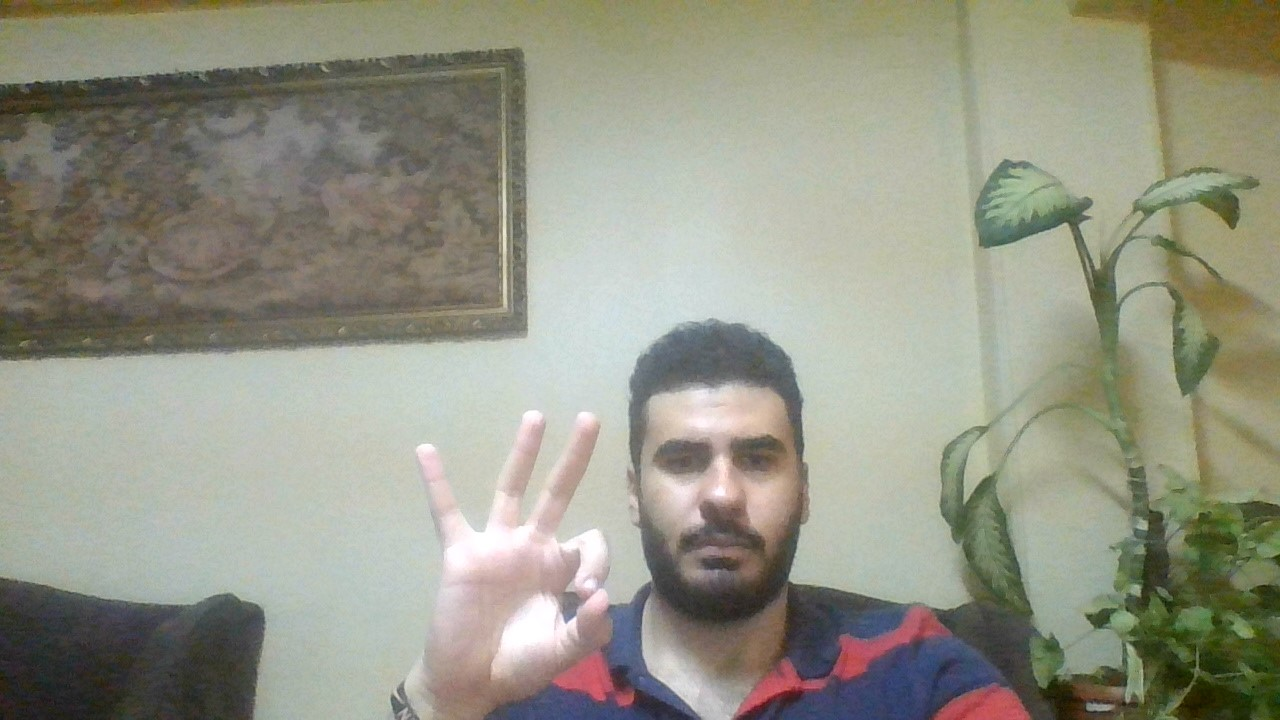okay: (394, 398, 623, 702)
